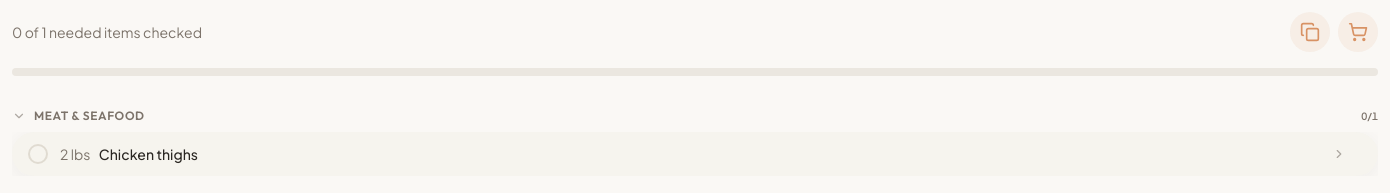
Test case: SwipeablePlanContent derived shopping list › keeps checked state when the plan object changes but days/list/pantry references do not
This screenshot has width=1390, height=193.
Later steps or results of the test are not shown.
Click the button "2 lbs Chicken thighs": (76, 154) [12,132,1378,176]
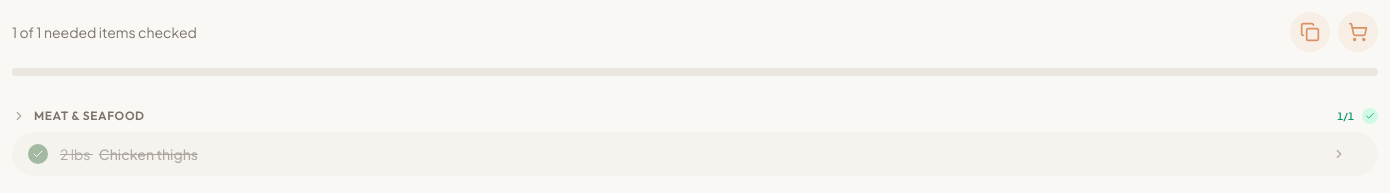
Expected: the text "1 of 1 needed items checked" is shown, [12,22,197,42]
